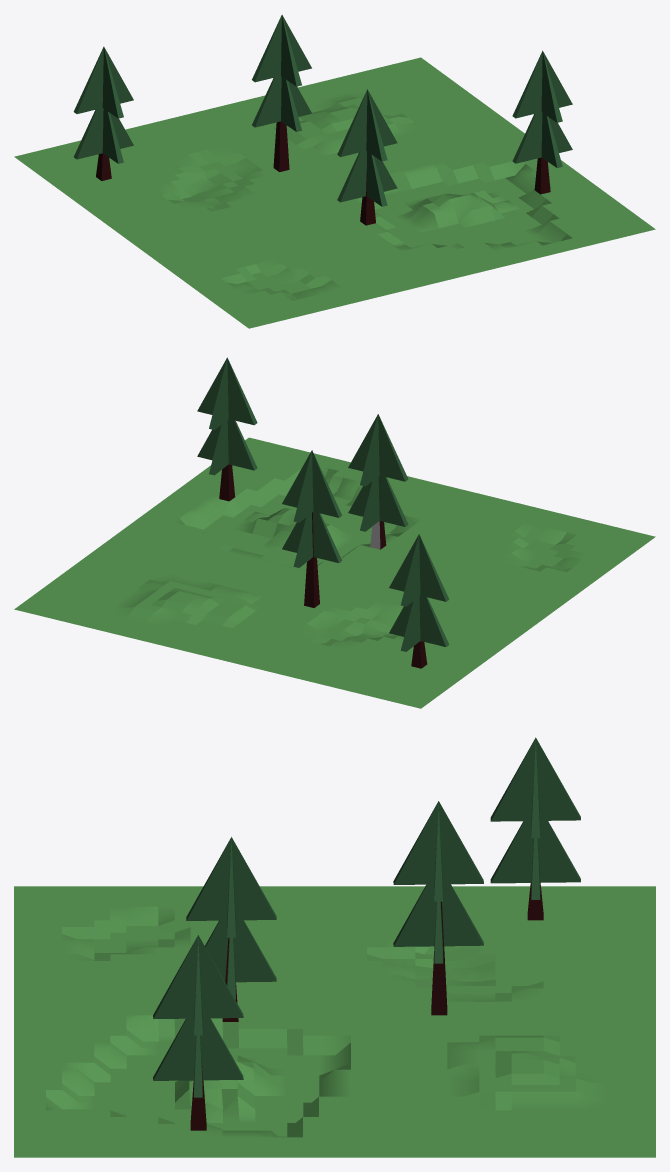
Rendered from Bahce1.fbx.
The picture shows the model from 3 angles, top to bottom: view 1: azimuth 30°, elevation 25°; view 2: azimuth 150°, elevation 25°; view 3: azimuth 270°, elevation 25°; orthographic projection. The views are drawn at different scales.
Parts seen in each view (by area): view 1: pPlane2; view 2: pPlane2; view 3: pPlane2.
Boxes of the visible parts, x1,y1,x2,y2 form: pPlane2: (14, 15, 655, 328); pPlane2: (14, 357, 655, 708); pPlane2: (14, 737, 655, 1157).
Size of the model in its own units: 308 by 119 by 308.
